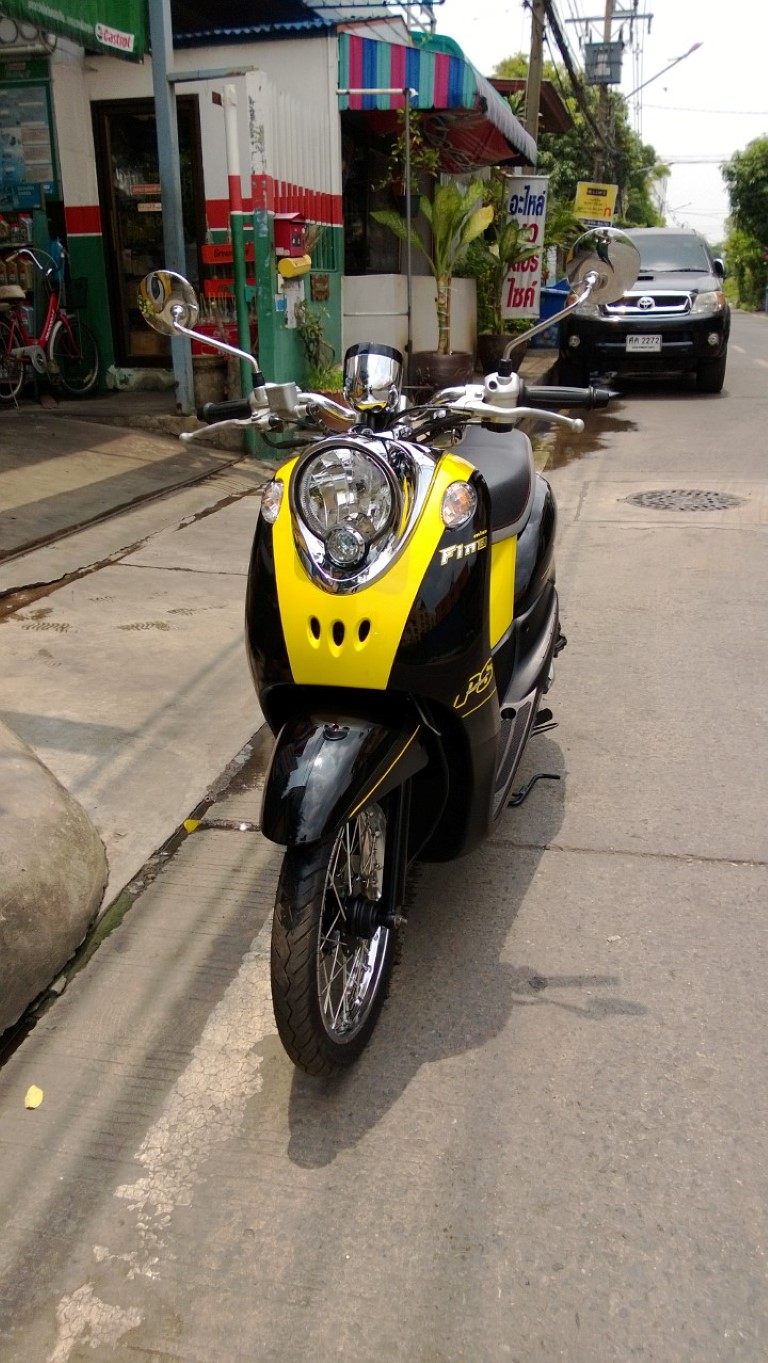motorcycle: (130, 256, 651, 1092)
